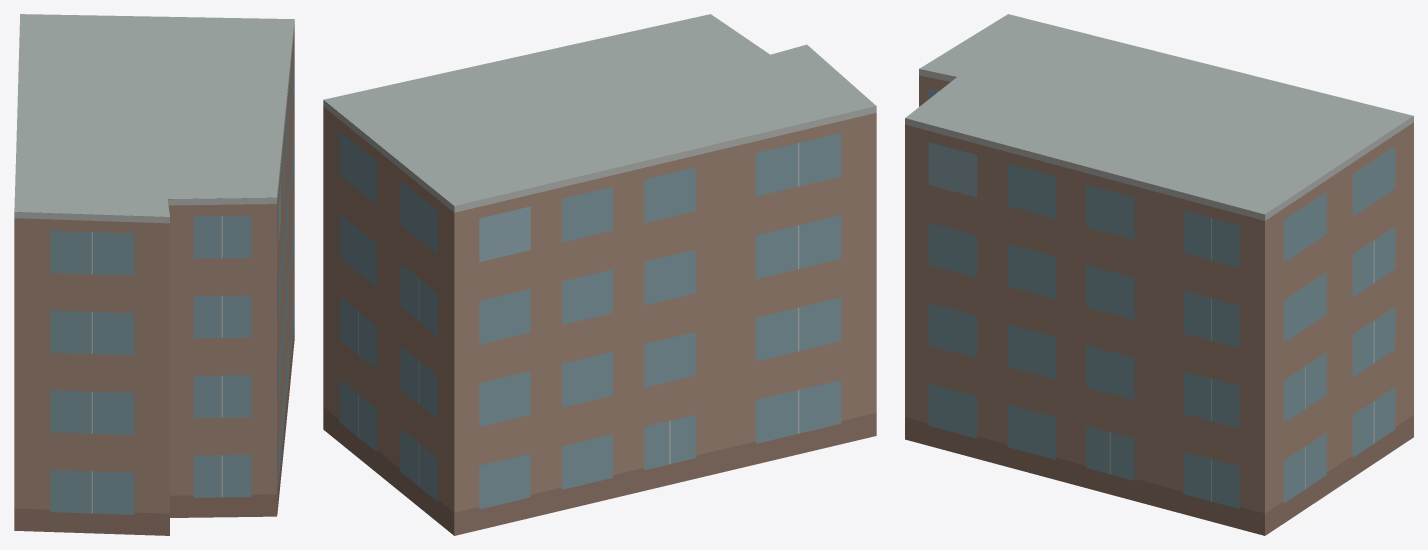
File: survey-upis-32913268.glb
3 renders of one model, left to right at view 1: azimuth 30°, elevation 25°; view 2: azimuth 150°, elevation 25°; view 3: azimuth 270°, elevation 25°, orthographic. The views are drawn at different scales.
Parts seen in each view (by area): view 1: survey-upis-32913268.tmp; view 2: survey-upis-32913268.tmp; view 3: survey-upis-32913268.tmp.
Boxes of the visible parts, left/top/right/bottom form: survey-upis-32913268.tmp: left=14, top=14, right=294, bottom=535; survey-upis-32913268.tmp: left=323, top=14, right=876, bottom=535; survey-upis-32913268.tmp: left=905, top=14, right=1413, bottom=535.
Size of the model in its own units: 16.33 by 12.2 by 17.51.
